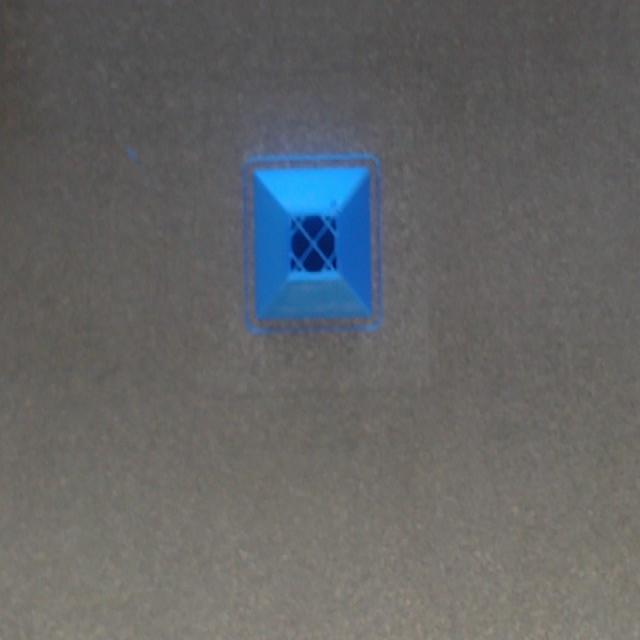mistake: (318, 201, 337, 235)
